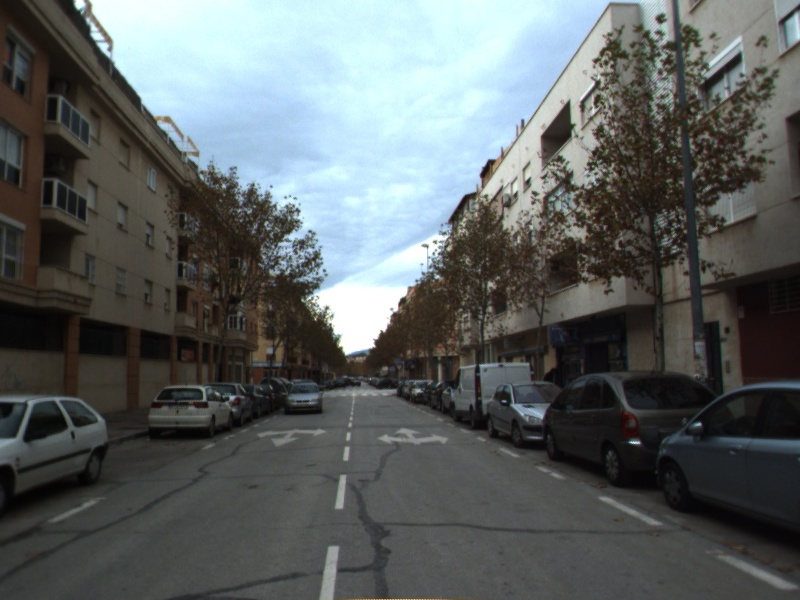STRAIGHT_LEFT_RIGHT: (375, 425, 451, 447)
